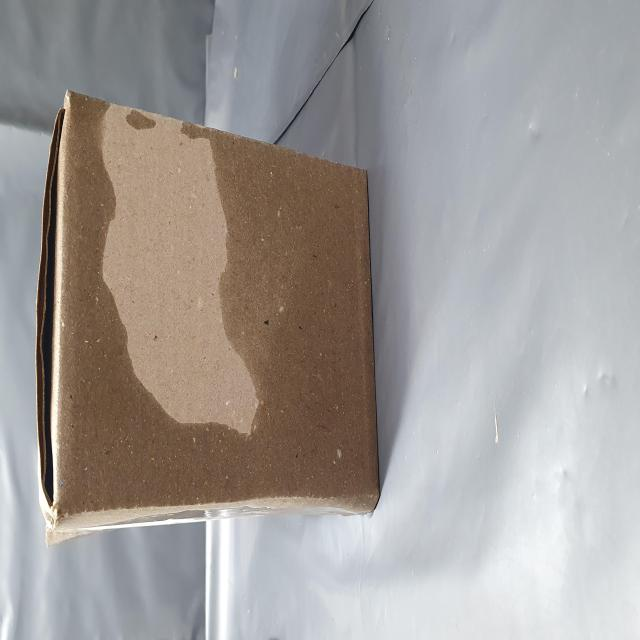wet: (61, 82, 294, 640)
